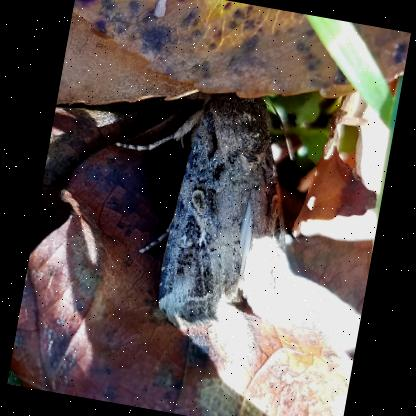Fall Armyworm Moth: (79, 66, 319, 348)
